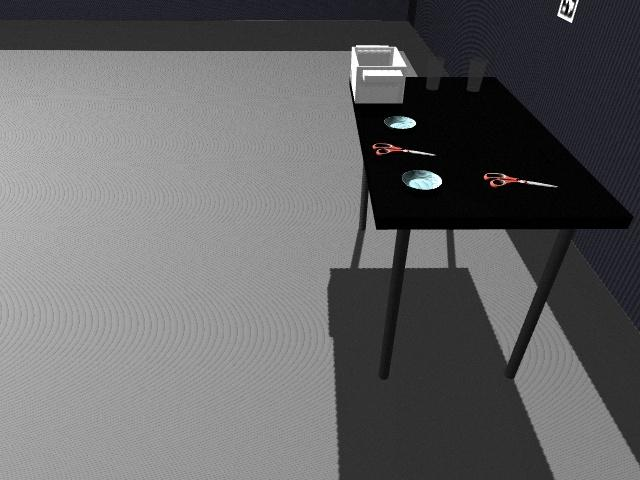cup: (467, 59, 486, 93), (425, 57, 444, 91)
plate: (401, 169, 444, 191), (383, 115, 419, 130)
scissors: (485, 172, 559, 189), (372, 143, 436, 158)
